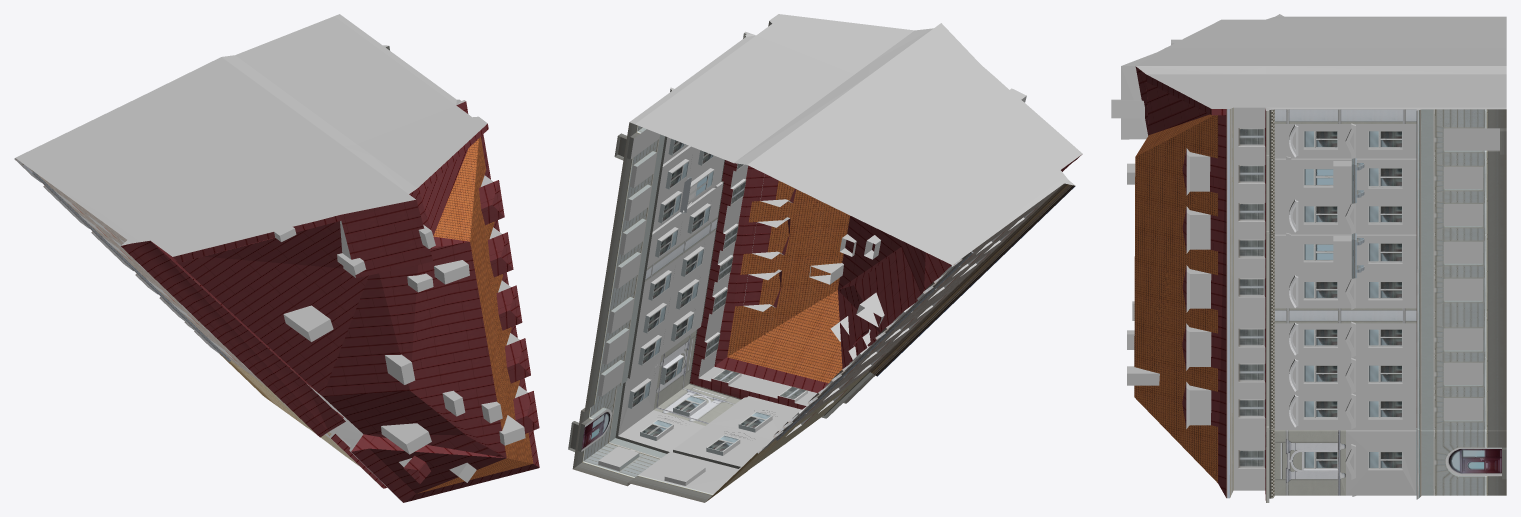
File: Kinga_1.obj
3 renders of one model, left to right at view 1: azimuth 30°, elevation 25°; view 2: azimuth 150°, elevation 25°; view 3: azimuth 270°, elevation 25°, orthographic.
Parts seen in each view (by area): view 1: Kinga_1; view 2: Kinga_1; view 3: Kinga_1.
Part boxes in pixels (bbox=[...]): Kinga_1: bbox=[14, 14, 539, 502]; Kinga_1: bbox=[568, 14, 1082, 502]; Kinga_1: bbox=[1111, 14, 1506, 502].
Size of the model in its own units: 27.26 by 24.48 by 23.82.
